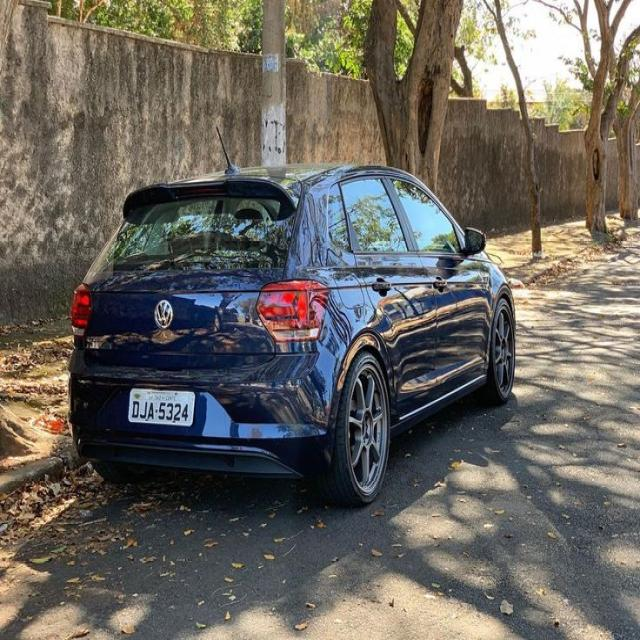Placas: (126, 384, 197, 432)
